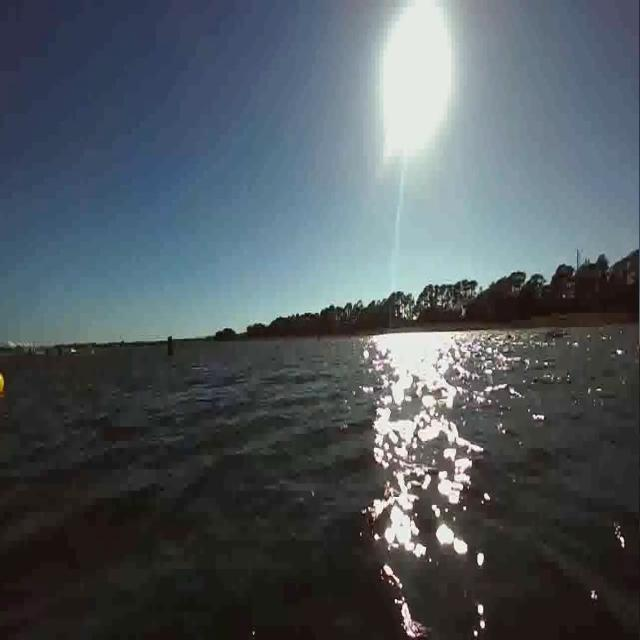yellow-buoy: (0, 372, 5, 398)
